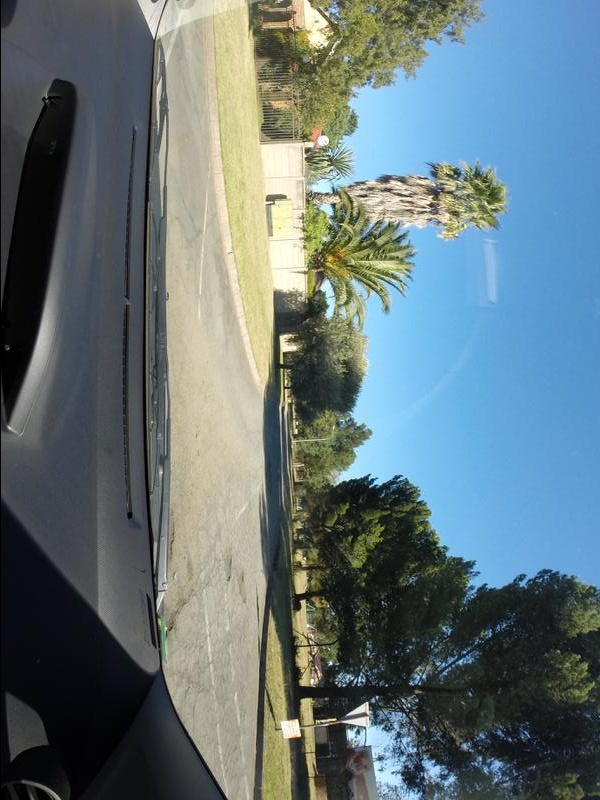pothole: (169, 511, 182, 565), (236, 570, 247, 610), (220, 556, 233, 584)
